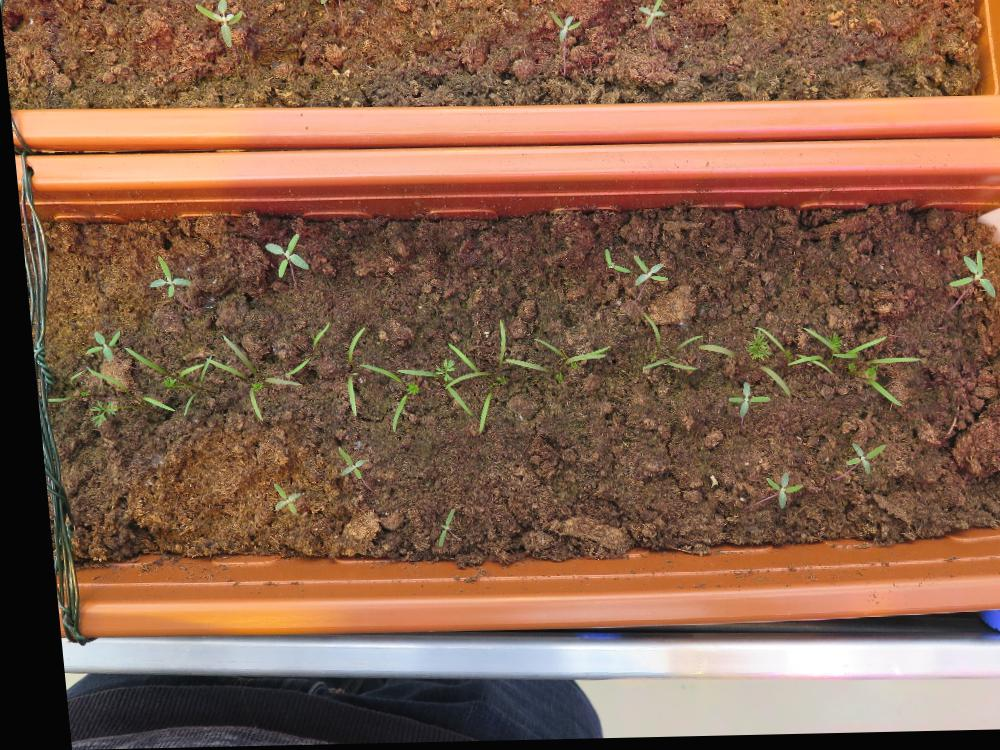weed: (936, 251, 989, 304), (256, 232, 305, 279), (138, 252, 186, 298), (717, 380, 763, 422), (754, 470, 796, 511), (833, 443, 878, 478), (75, 326, 116, 361), (624, 255, 664, 288), (547, 11, 582, 45), (326, 445, 357, 481), (261, 482, 292, 516), (423, 507, 447, 550), (633, 0, 665, 32), (597, 247, 624, 277)
